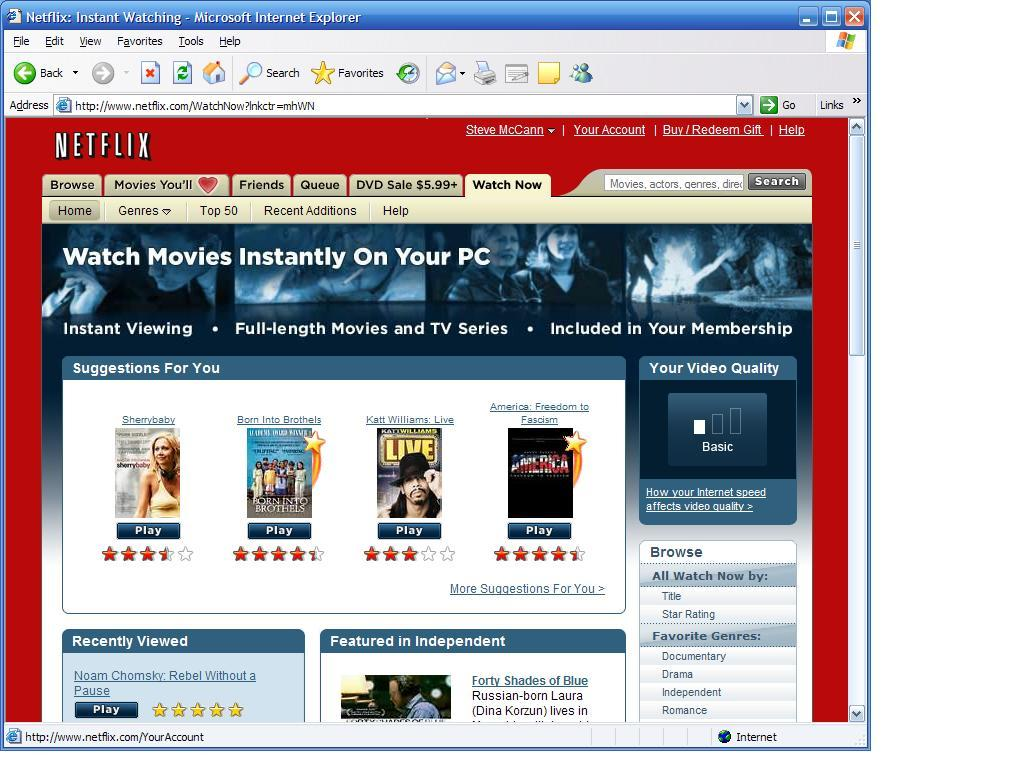Person: (48, 227, 134, 315), (520, 225, 613, 302), (139, 225, 225, 303), (447, 225, 528, 302), (379, 452, 444, 518), (137, 433, 181, 519), (256, 459, 305, 507), (628, 224, 657, 303), (389, 677, 440, 716)
